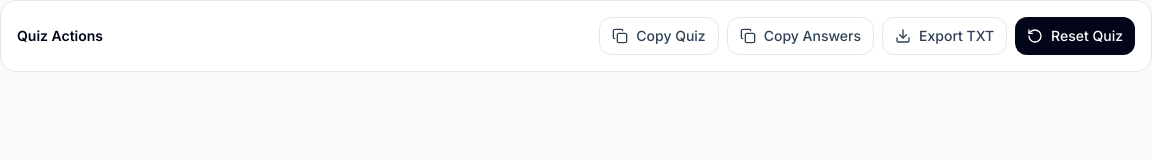
Test: QuizActionBar › copies answers
Click the button "Copy Answers" at (800, 36), box x1=727 y1=17 x2=874 y2=55
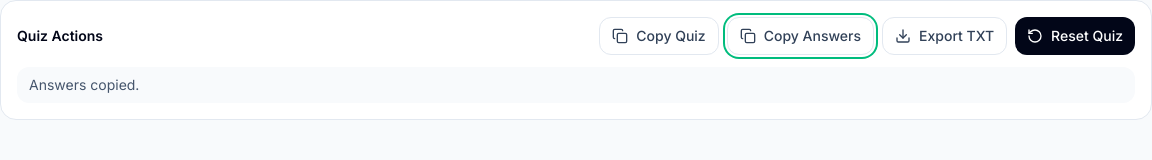
Now the message with test id "quiz-action-status" reads "Answers copied.", box x1=29 y1=76 x2=139 y2=93
